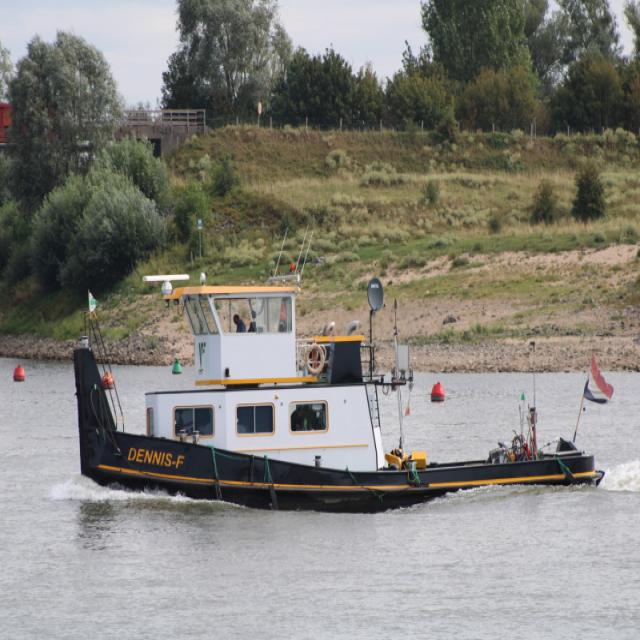tugboat: (68, 222, 613, 524)
